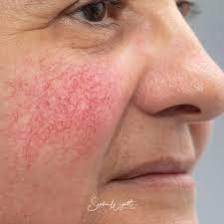Sensitif: (0, 0, 211, 223)
